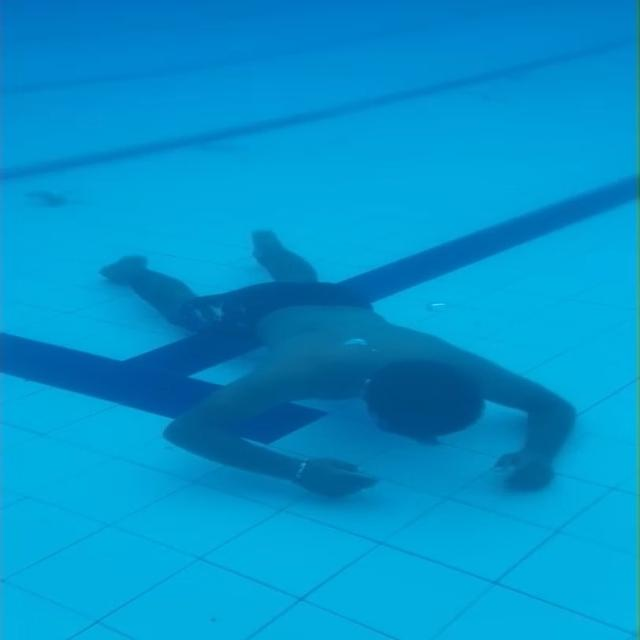Drowning: (101, 230, 575, 498)
